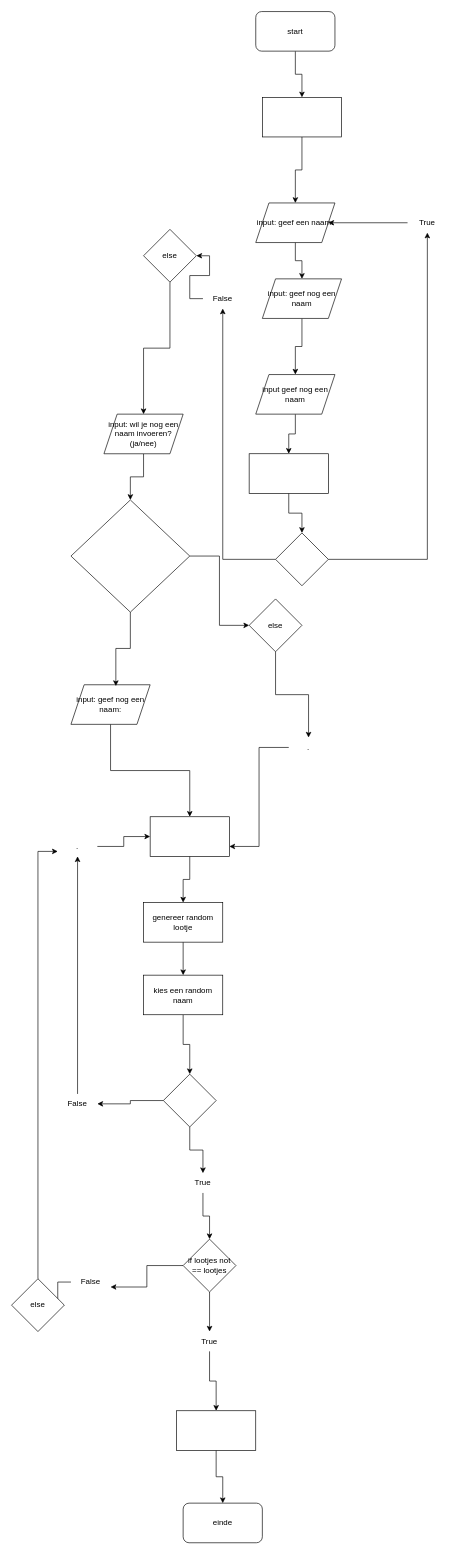
This 459x1554 diagram has some shape labels left out. The centre of each missing label's shape, as x and y in pixels:
for i in range(aantal_namen):: point 189,836
if aantal_lootjes == aantal_namen:: point 189,1100
if namen < 3: point 301,559
if nog_een_naam_keuze == ja: point 130,555
import random: point 302,117
maak een lijst namen aan: point 288,473
print: namen and lootjes: point 216,1430
